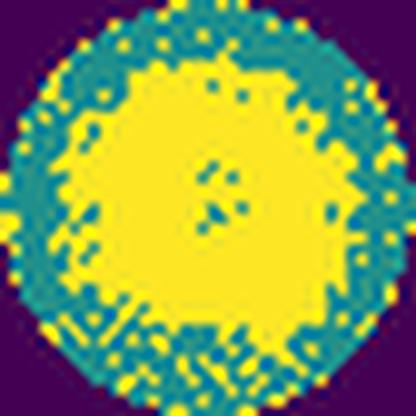Center: (56, 61, 350, 348)
